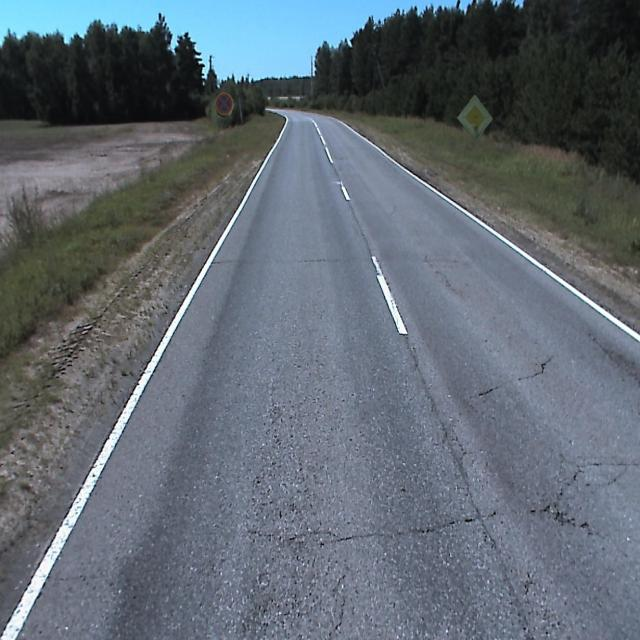road: (0, 109, 639, 639)
